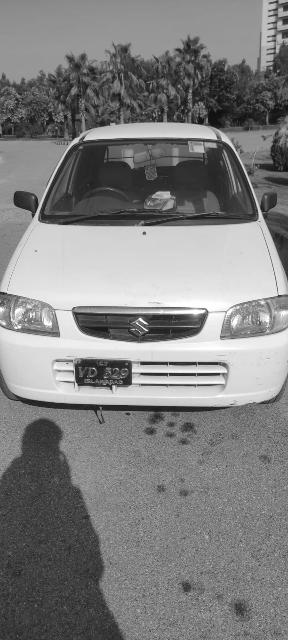Number: (77, 365, 130, 379)
